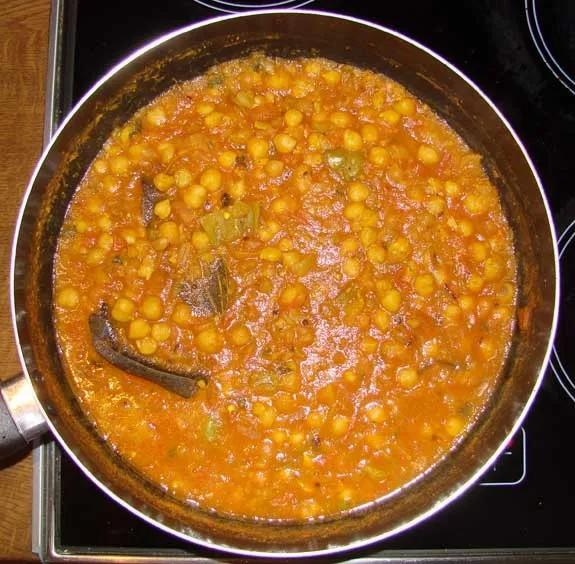Chole: (53, 55, 518, 520)
